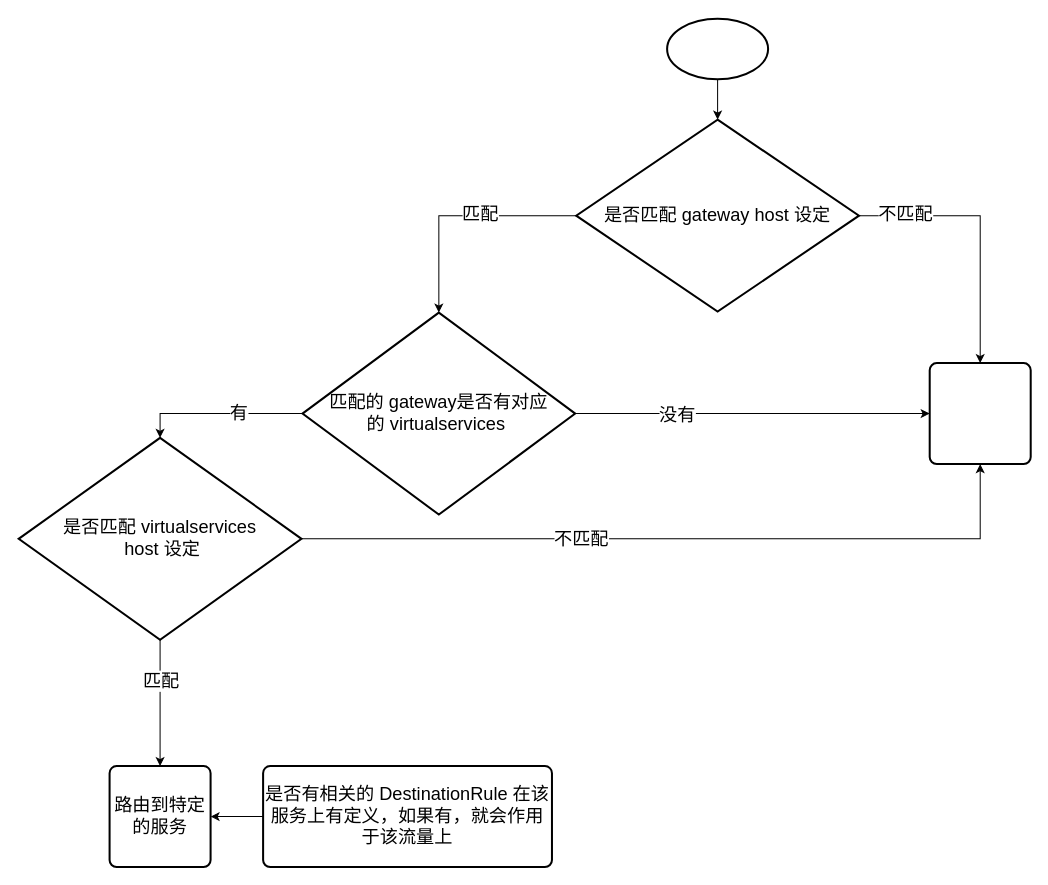
The diagram is 1048 pixels wide and 885 high, and some of its shapes have lost their labels. Each missing label, with the centre of its shape:
该请求错误: pixel 979 413
请求: pixel 717 48
